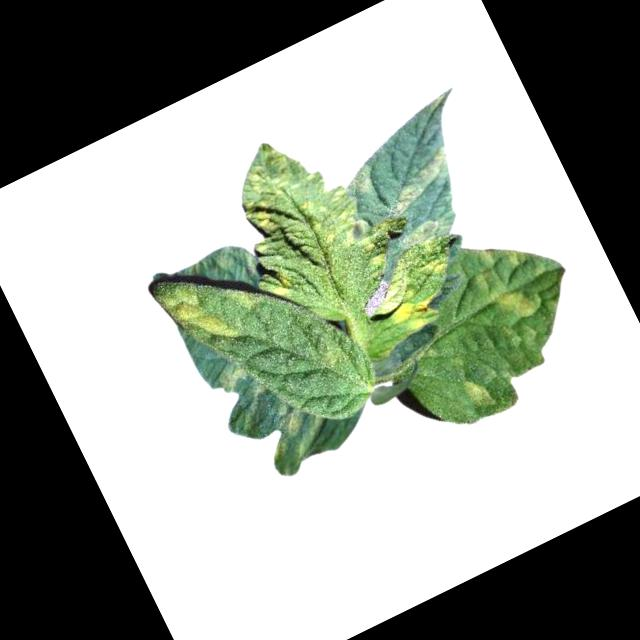Leaf_Mold: (210, 118, 370, 284), (152, 265, 245, 365), (465, 233, 552, 331), (252, 390, 340, 480), (375, 143, 465, 218), (378, 283, 448, 342), (388, 206, 460, 259), (457, 369, 496, 414), (206, 358, 250, 396), (339, 157, 377, 195), (262, 267, 295, 301)
